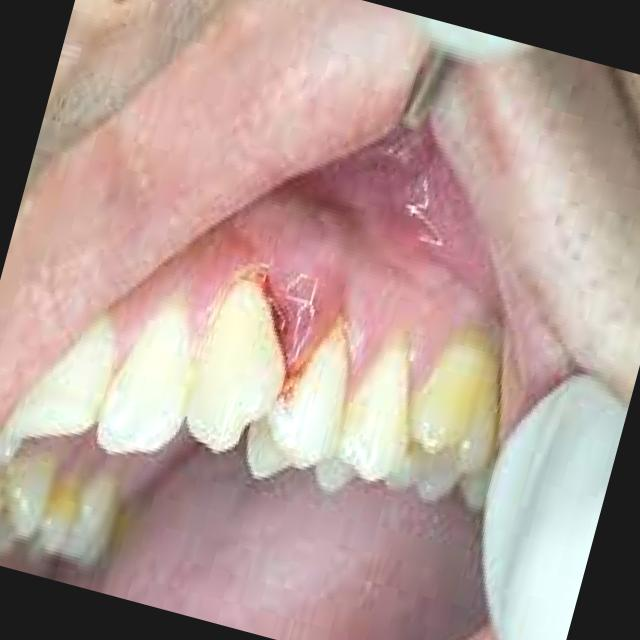abscess: (193, 230, 388, 454)
